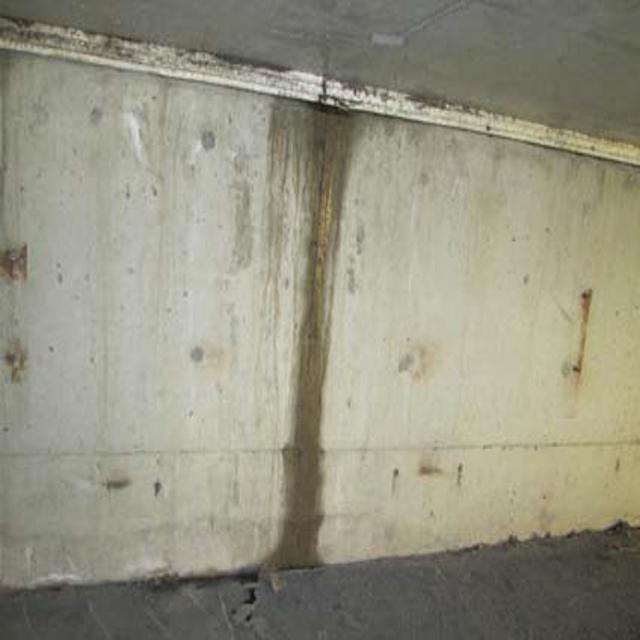leakage: (257, 67, 369, 587)
